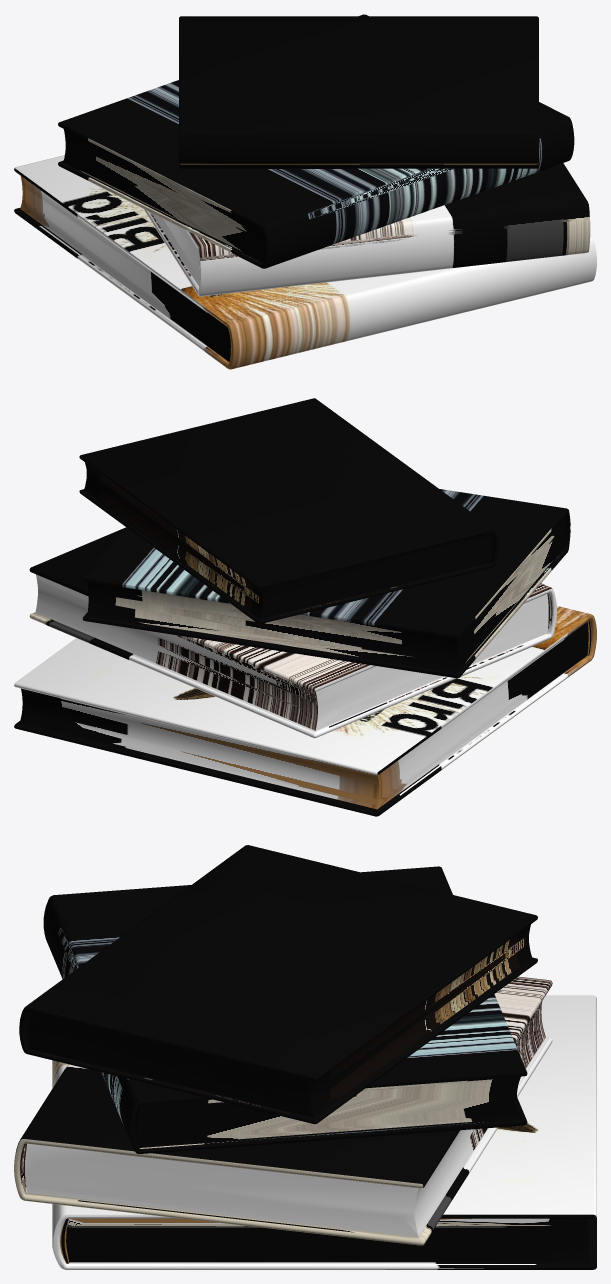
Rendered from books.glb.
The picture shows the model from 3 angles, top to bottom: view 1: azimuth 30°, elevation 25°; view 2: azimuth 150°, elevation 25°; view 3: azimuth 270°, elevation 25°; orthographic projection. The views are drawn at different scales.
Visible parts, largest first — view 1: Mesh2_Material_43_0, Mesh3_Material_40_0, Mesh4_Material_42_0, Mesh1_Material_41_0; view 2: Mesh2_Material_43_0, Mesh3_Material_40_0, Mesh4_Material_42_0, Mesh1_Material_41_0; view 3: Mesh2_Material_43_0, Mesh1_Material_41_0, Mesh3_Material_40_0, Mesh4_Material_42_0.
Boxes of the visible parts, left/top/right/bottom form: Mesh2_Material_43_0: left=179, top=16, right=538, bottom=168; Mesh3_Material_40_0: left=14, top=155, right=596, bottom=369; Mesh4_Material_42_0: left=58, top=14, right=574, bottom=268; Mesh1_Material_41_0: left=143, top=163, right=590, bottom=296; Mesh2_Material_43_0: left=79, top=398, right=498, bottom=623; Mesh3_Material_40_0: left=14, top=606, right=596, bottom=816; Mesh4_Material_42_0: left=82, top=489, right=570, bottom=678; Mesh1_Material_41_0: left=29, top=527, right=556, bottom=738; Mesh2_Material_43_0: left=19, top=845, right=537, bottom=1124; Mesh1_Material_41_0: left=14, top=976, right=552, bottom=1245; Mesh3_Material_40_0: left=52, top=995, right=596, bottom=1269; Mesh4_Material_42_0: left=43, top=866, right=527, bottom=1153.
Size of the model in its own units: 2.4 by 0.9401 by 2.24.
Materials: 4 (4 with a texture image).
